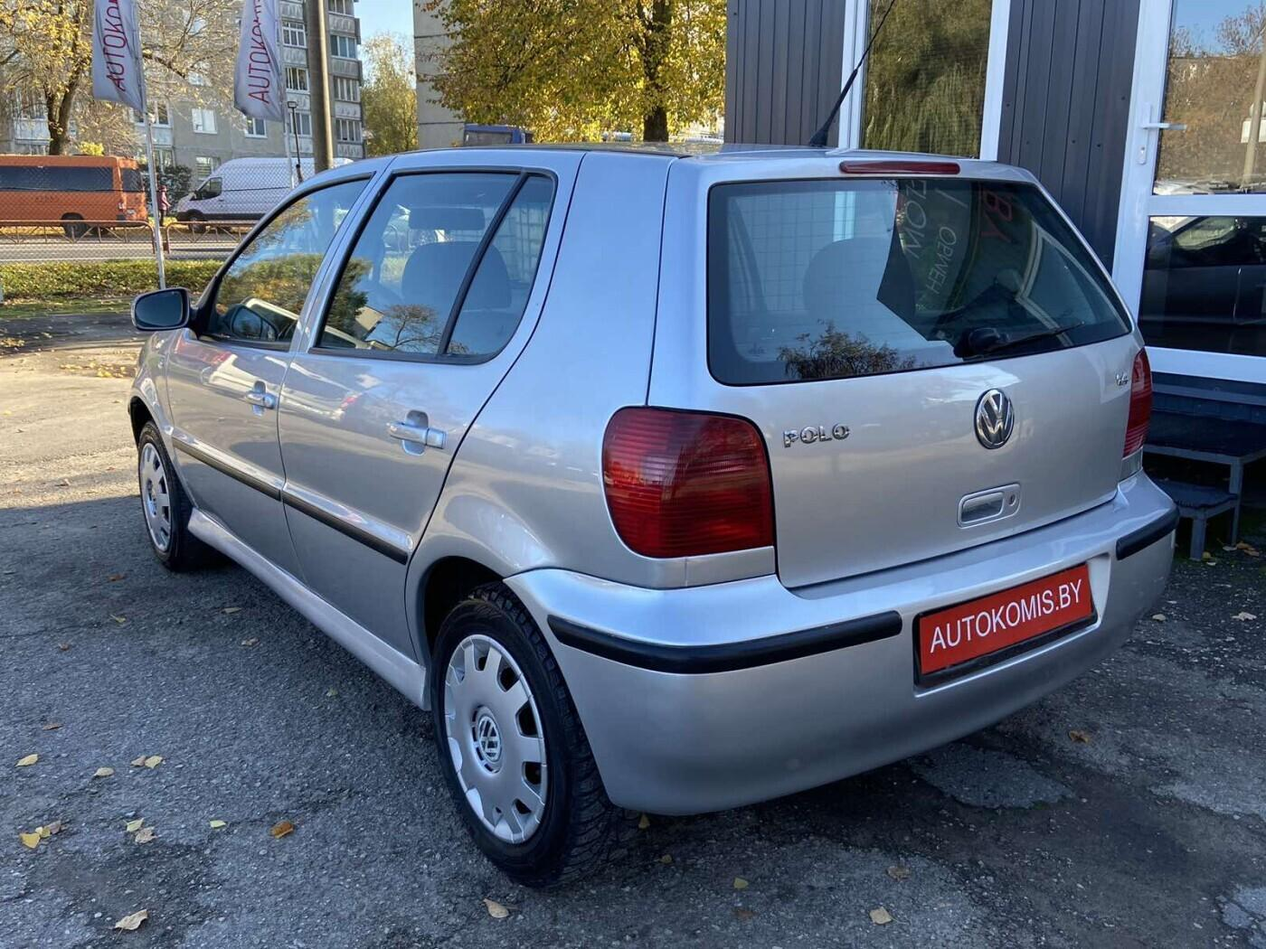Polo_2000-2002: (119, 134, 1181, 870)
